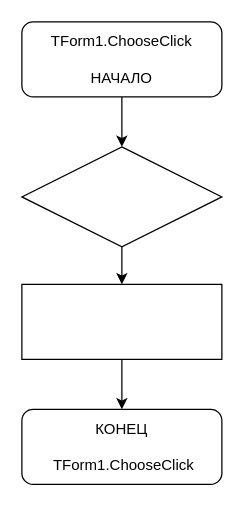
This 244x506 diagram has some shape labels left out. Here are the shapes that lost their labels. From the top down, the centre of each, then its label:
At [121,196]: "OpenDialog1.Execute".
At [121,321]: "path:= OpenDialog1.FileName;".
